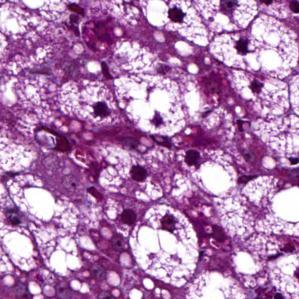ballooning: (112, 65, 205, 143), (125, 201, 203, 293), (203, 10, 294, 85)
